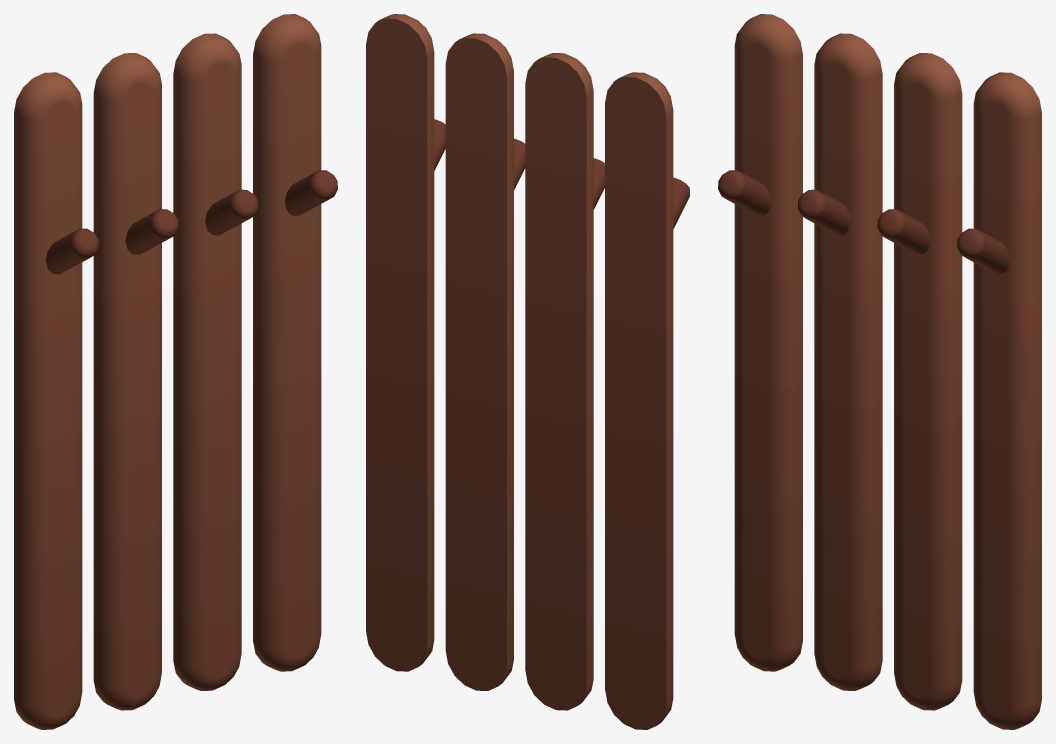
The model's file is Hanger_03.glb.
The picture shows the model from 3 angles, left to right: view 1: azimuth 30°, elevation 25°; view 2: azimuth 150°, elevation 25°; view 3: azimuth 330°, elevation 25°; orthographic projection.
Visible parts, largest first — view 1: Hanger_03; view 2: Hanger_03; view 3: Hanger_03.
Part boxes in pixels (bbox=[...]): Hanger_03: bbox=[14, 14, 337, 729]; Hanger_03: bbox=[366, 14, 689, 729]; Hanger_03: bbox=[718, 14, 1041, 729].
Size of the model in its own units: 0.588 by 1.22 by 0.1567.
1 material, 1 textured.
